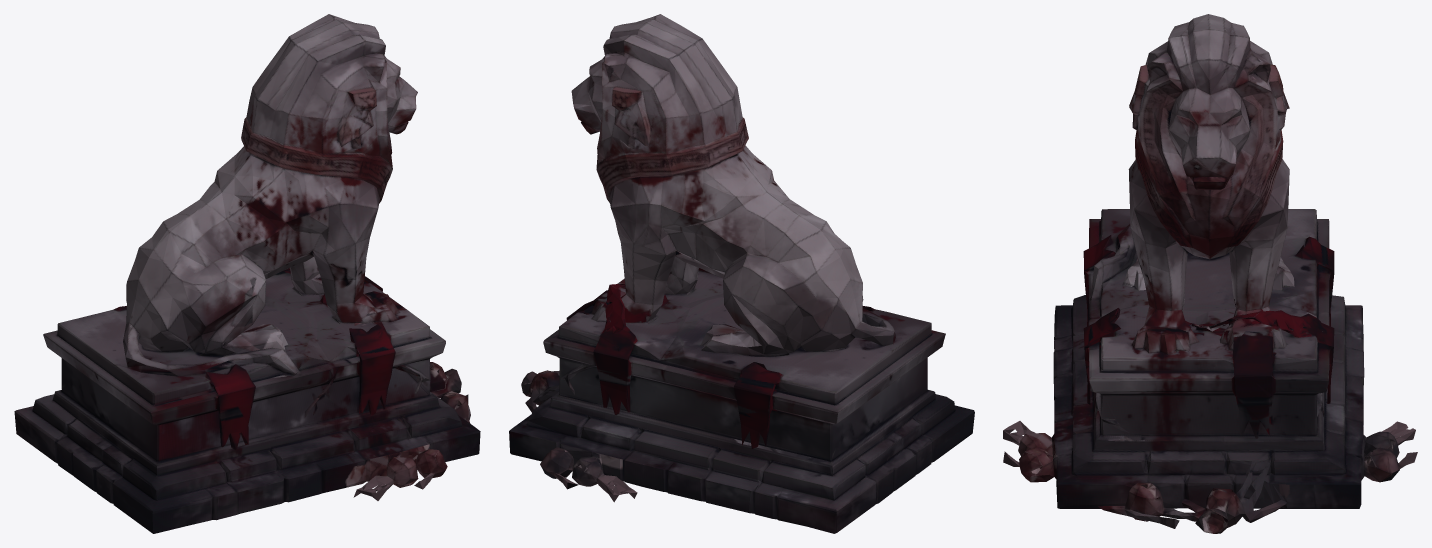
Rendered from statusLion_LOD0.glb.
3 views of the same model, side by side, from view 1: azimuth 30°, elevation 25°; view 2: azimuth 150°, elevation 25°; view 3: azimuth 270°, elevation 25° (orthographic). The views are drawn at different scales.
Parts seen in each view (by area): view 1: world; view 2: world; view 3: world.
Boxes of the visible parts, bbox=[...] form: world: bbox=[14, 14, 480, 533]; world: bbox=[509, 14, 974, 533]; world: bbox=[1003, 14, 1417, 533].
Bounding box in the file's own units: 0.9861 × 1 × 0.8433.
1 material, 1 textured.
